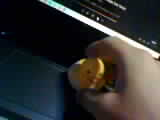duck: (68, 45, 107, 89)
